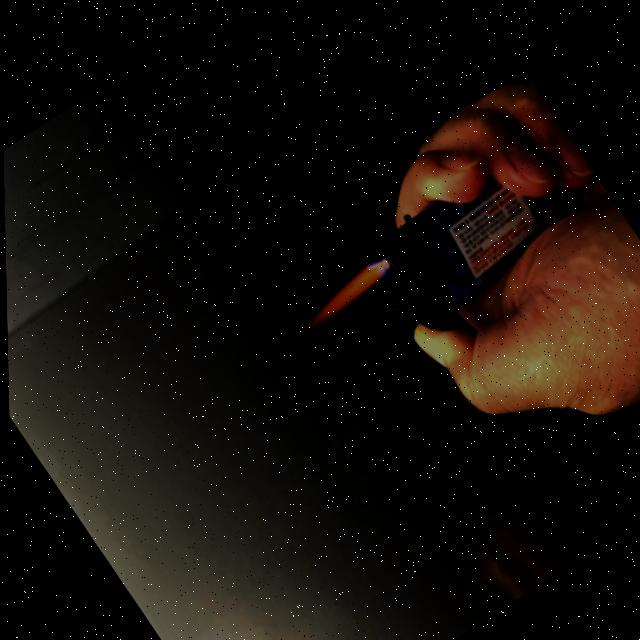Fire: (281, 248, 396, 341)
